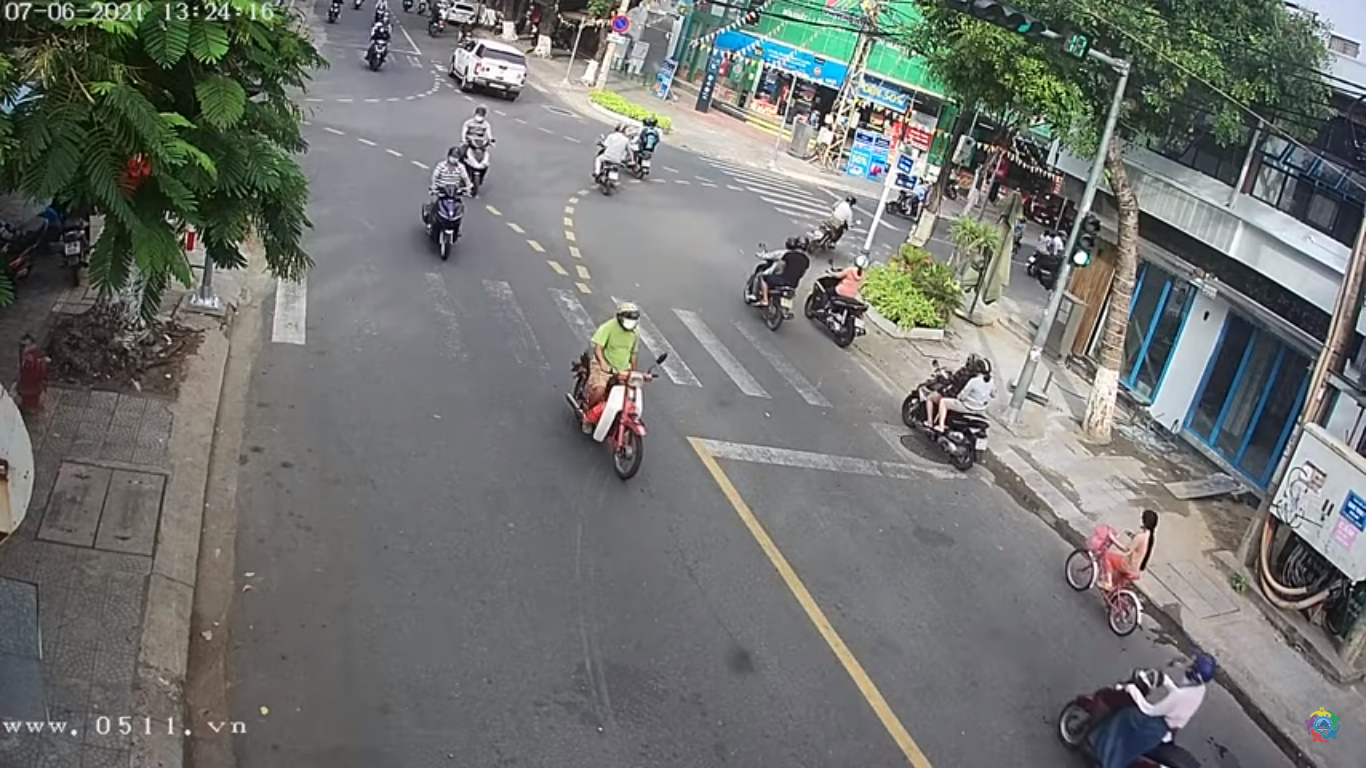motorbike: (576, 293, 663, 483), (419, 149, 471, 264)
